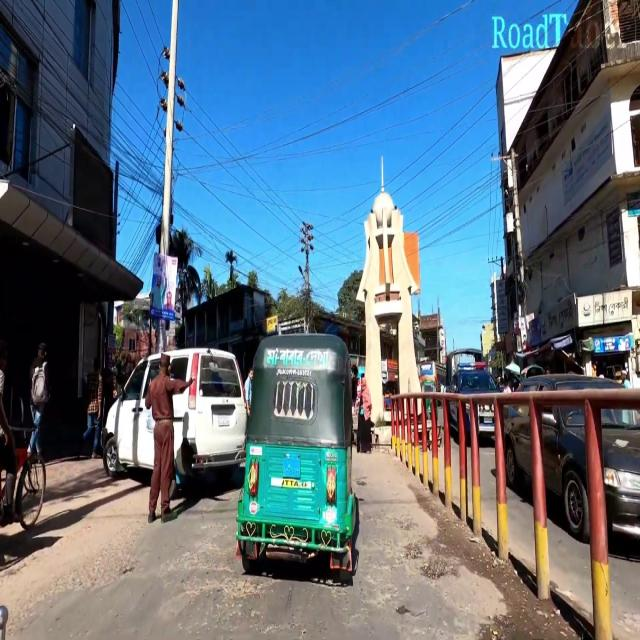white: (172, 342, 246, 487), (100, 344, 154, 480)
